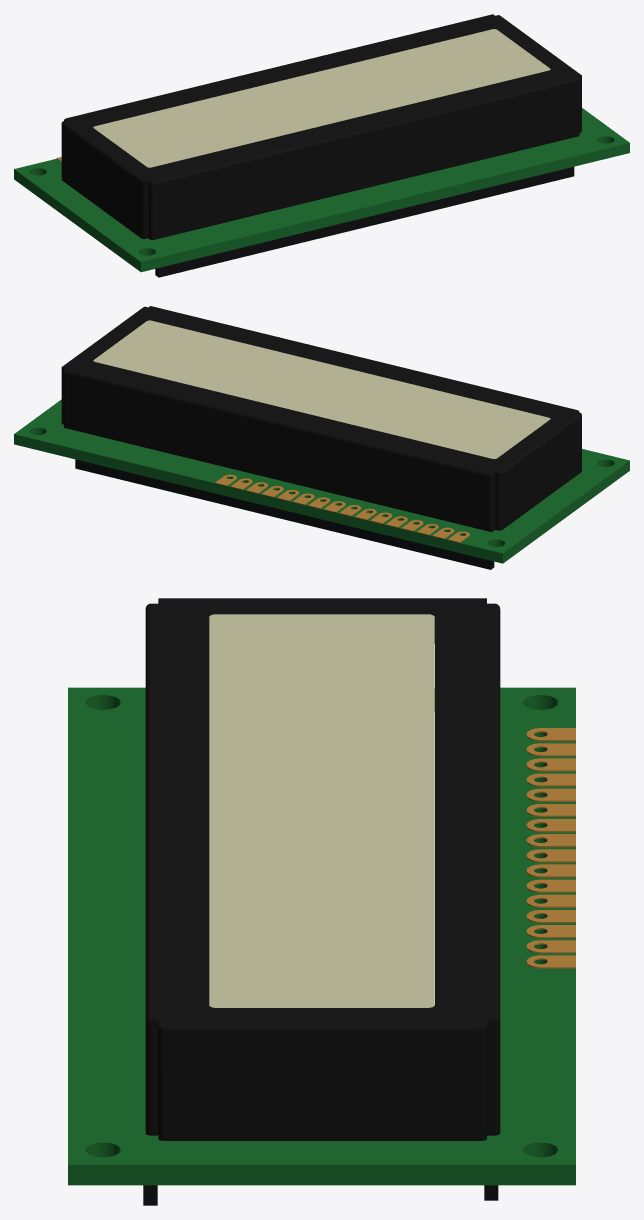
File: lcd-1602.glb
3 renders of one model, top to bottom at view 1: azimuth 30°, elevation 25°; view 2: azimuth 150°, elevation 25°; view 3: azimuth 270°, elevation 25°, orthographic. The views are drawn at different scales.
Parts seen in each view (by area): view 1: Pad_001_sp; view 2: Pad_001_sp; view 3: Pad_001_sp.
Part boxes in pixels (x1,y1,x2,y2): Pad_001_sp: (14,14,629,277); Pad_001_sp: (14,306,629,569); Pad_001_sp: (68,598,575,1205).
Bounding box in the file's own units: 80 × 15 × 36.
